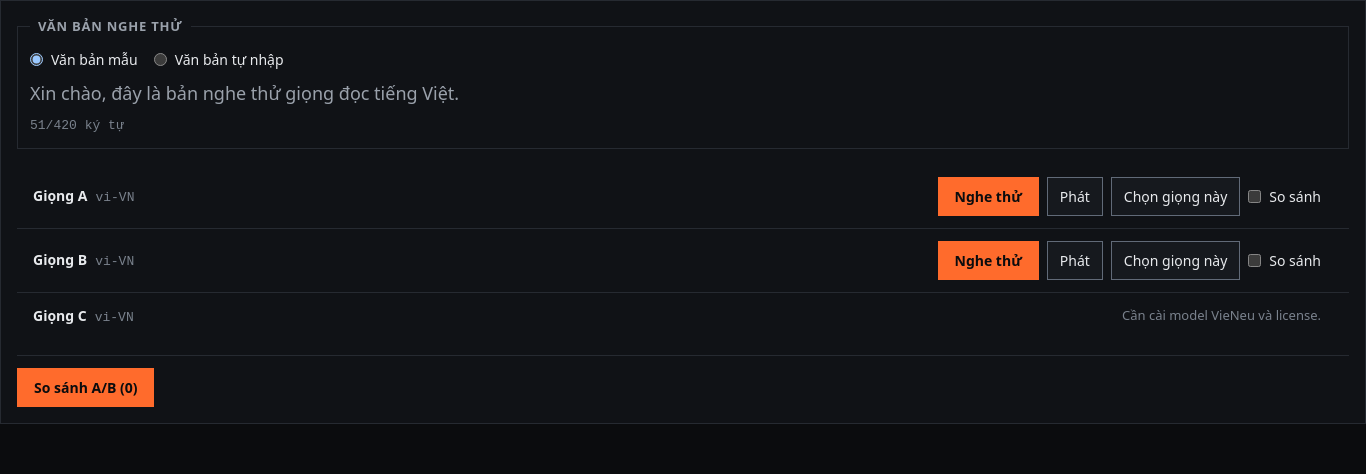
Test case: VoicePreviewPanel (A02) › cho thử lại job lỗi và giữ reason của backend
Click the button "Nghe thử" in the row of "Giọng A" at (988, 196), box [938,177,1039,216]
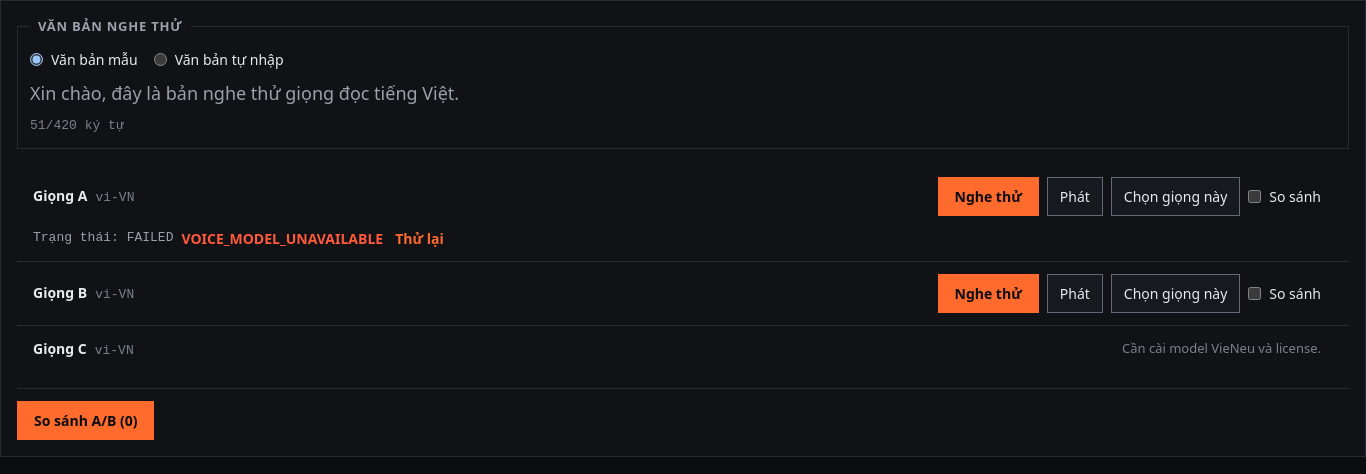
Result: the text "VOICE_MODEL_UNAVAILABLE" is shown at [181,228,383,249]
Click the button "Thử lại" at (420, 238), box [391,228,448,249]
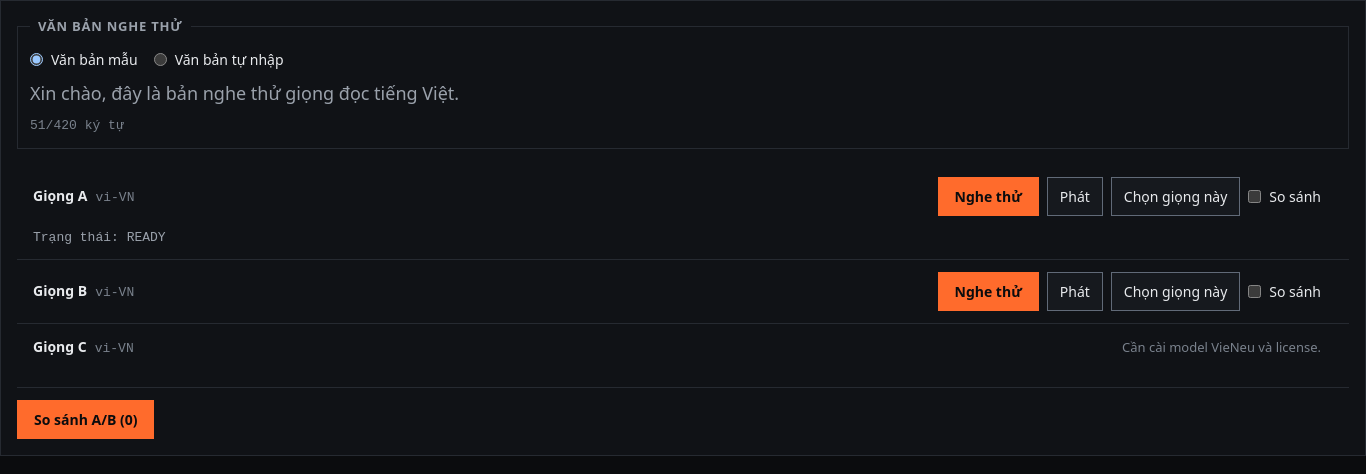
Result: the text "Trạng thái: READY" is shown at [33,228,166,247]
